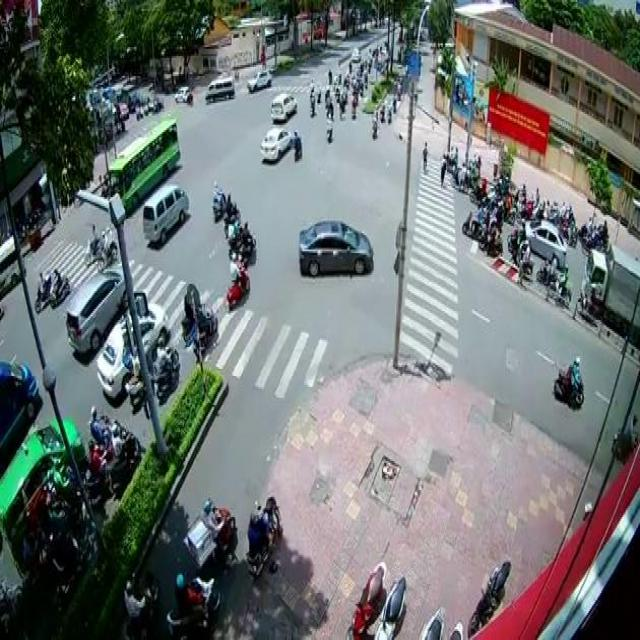bus: (104, 117, 178, 220)
car: (0, 415, 81, 562), (94, 300, 168, 407), (64, 266, 128, 362), (298, 221, 372, 280), (523, 217, 566, 269), (260, 125, 291, 161), (269, 89, 297, 121)
motorcycle: (166, 571, 220, 640), (190, 496, 238, 572), (243, 492, 280, 578), (122, 571, 158, 640), (107, 422, 140, 496), (82, 438, 111, 506), (152, 335, 178, 403), (552, 356, 584, 409), (224, 251, 250, 311), (88, 402, 115, 451), (547, 260, 571, 306), (459, 199, 485, 240), (97, 224, 117, 271), (535, 252, 559, 290), (222, 190, 241, 237), (238, 217, 256, 266), (82, 220, 101, 266), (49, 268, 69, 308), (33, 271, 51, 313), (210, 179, 226, 222), (449, 159, 467, 192), (290, 127, 302, 159)
truck: (581, 244, 640, 344), (142, 181, 188, 244)
